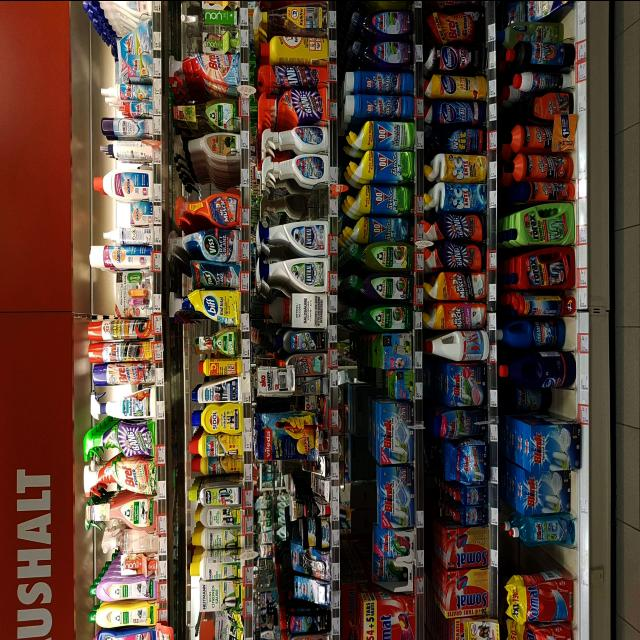empty_space: (270, 190, 324, 214)
